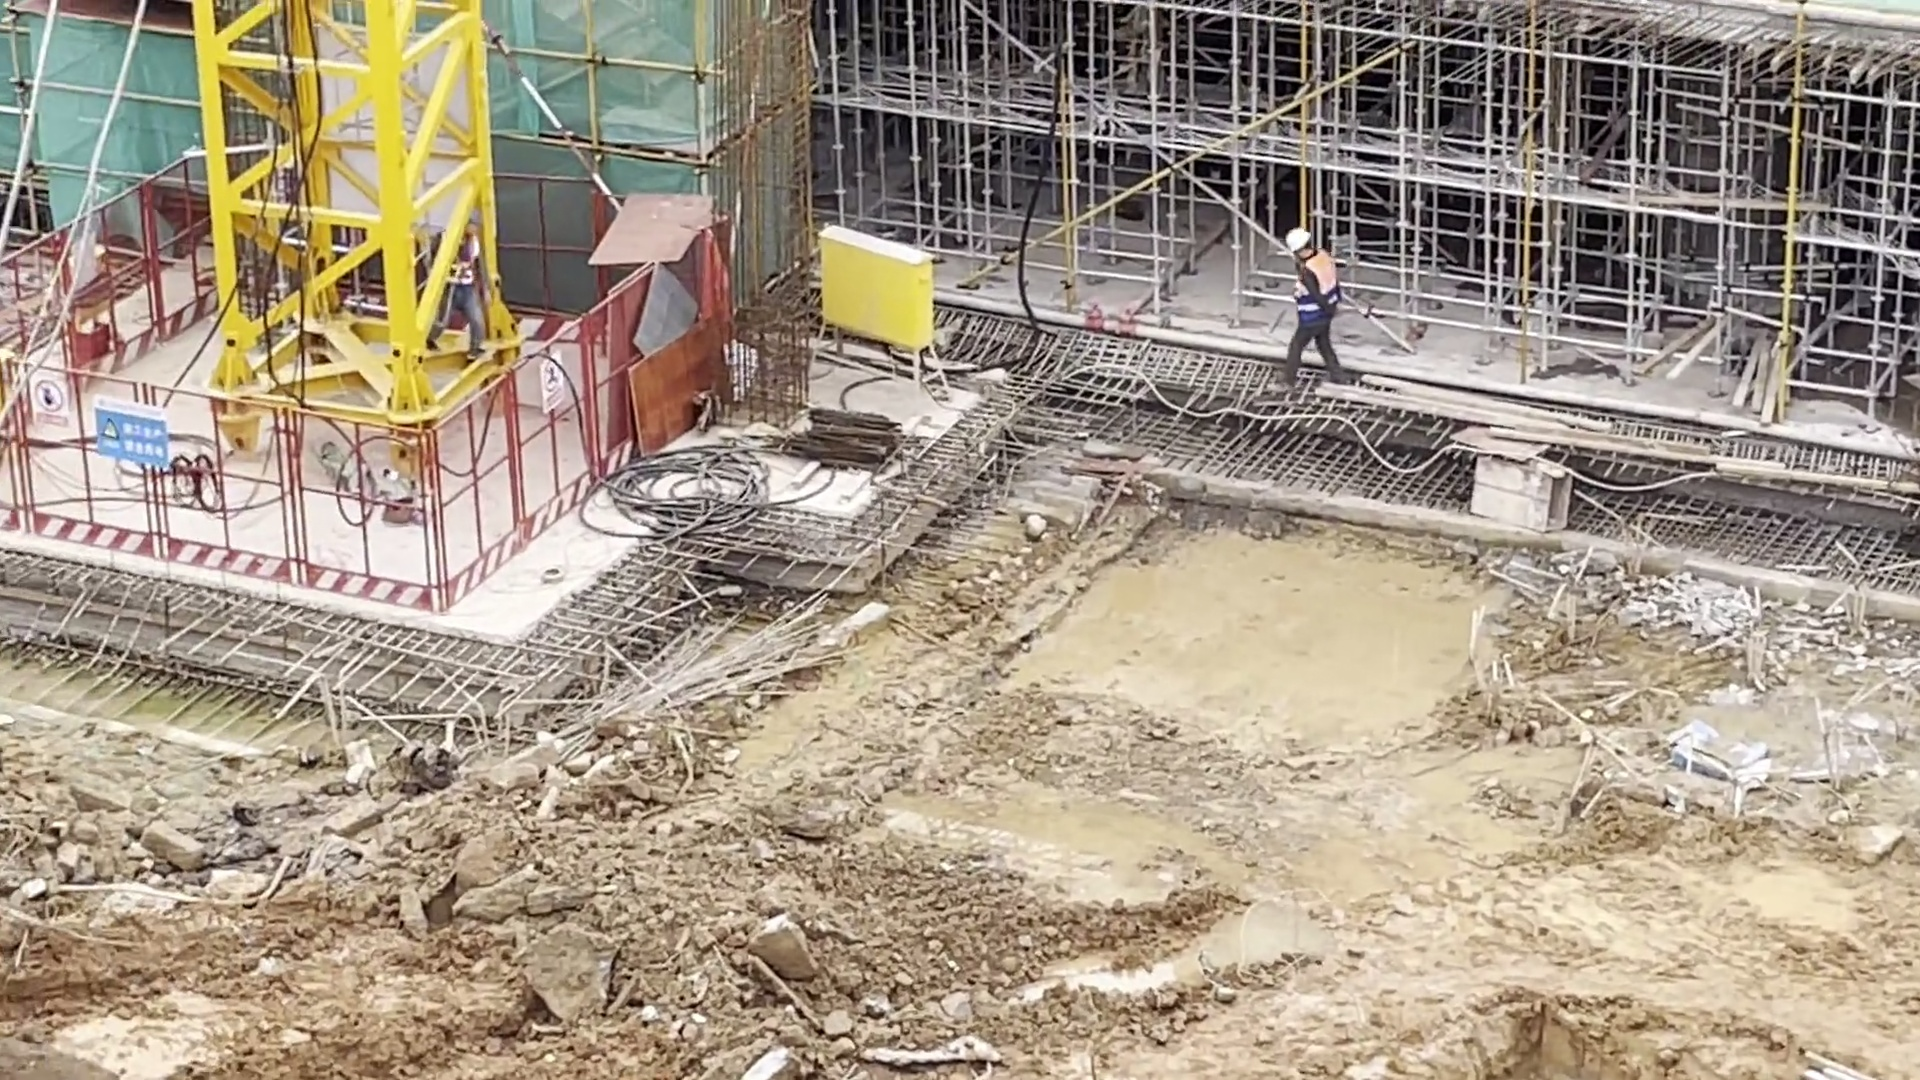ebox: (820, 221, 947, 405)
fence: (1, 358, 442, 617), (440, 294, 620, 614)
helmet: (1285, 225, 1311, 254)
person: (1277, 223, 1353, 385), (435, 217, 488, 357)
vest: (1293, 250, 1338, 322)
